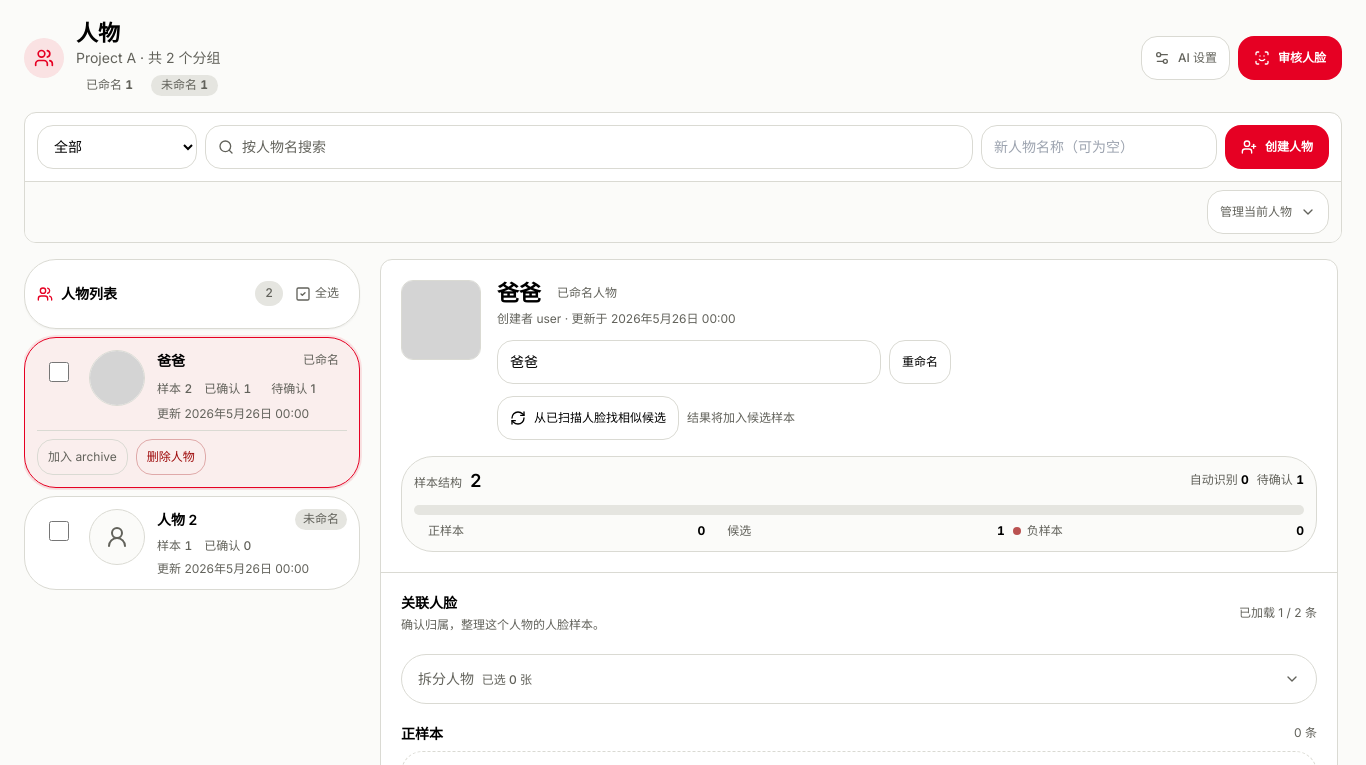
Scenario: PeoplePage › shows a recovery message when targeted rematch has no usable face profile
Click the button "从已扫描人脸找相似候选" at (588, 418), box x1=497 y1=396 x2=679 y2=440
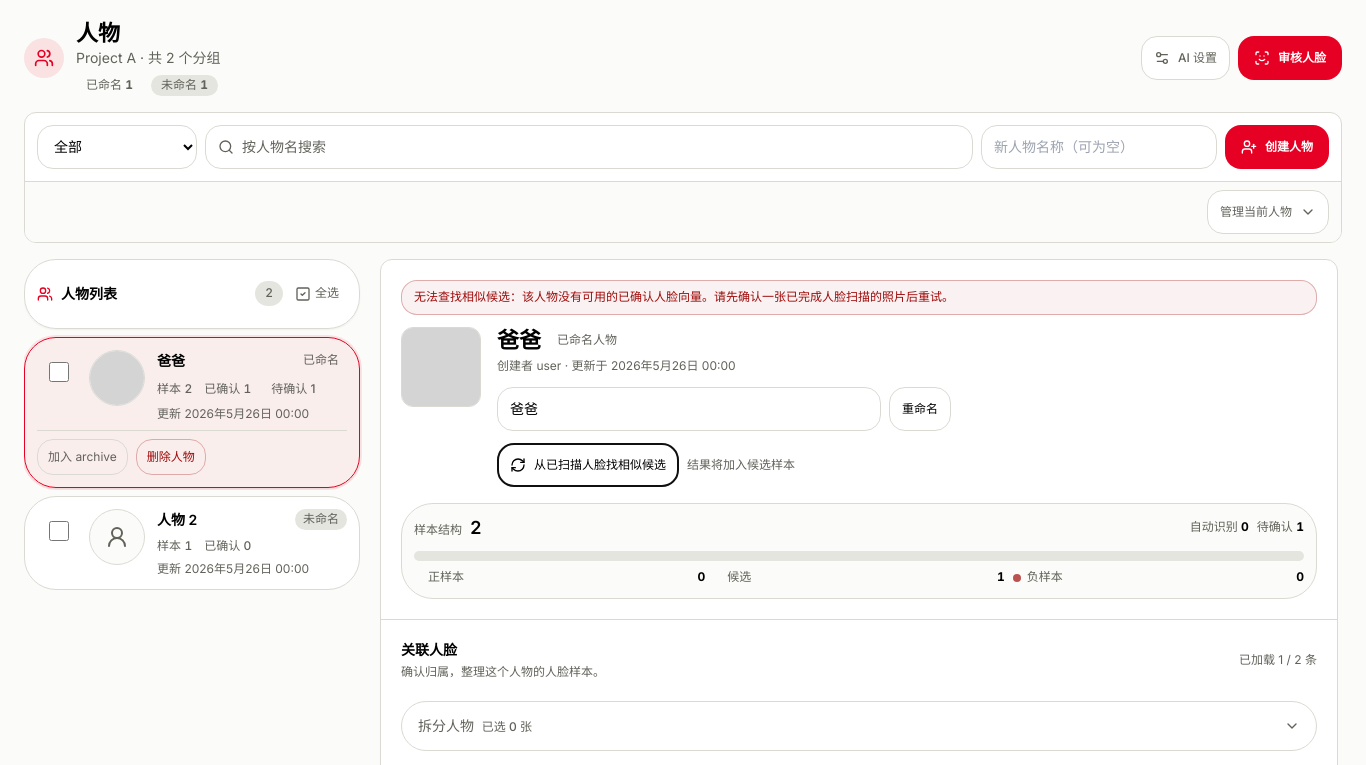
expect the message reads "无法查找相似候选：该人物没有可用的已确认人脸向量。请先确认一张已完成人脸扫描的照片后重试。": met, box x1=414 y1=289 x2=954 y2=304
